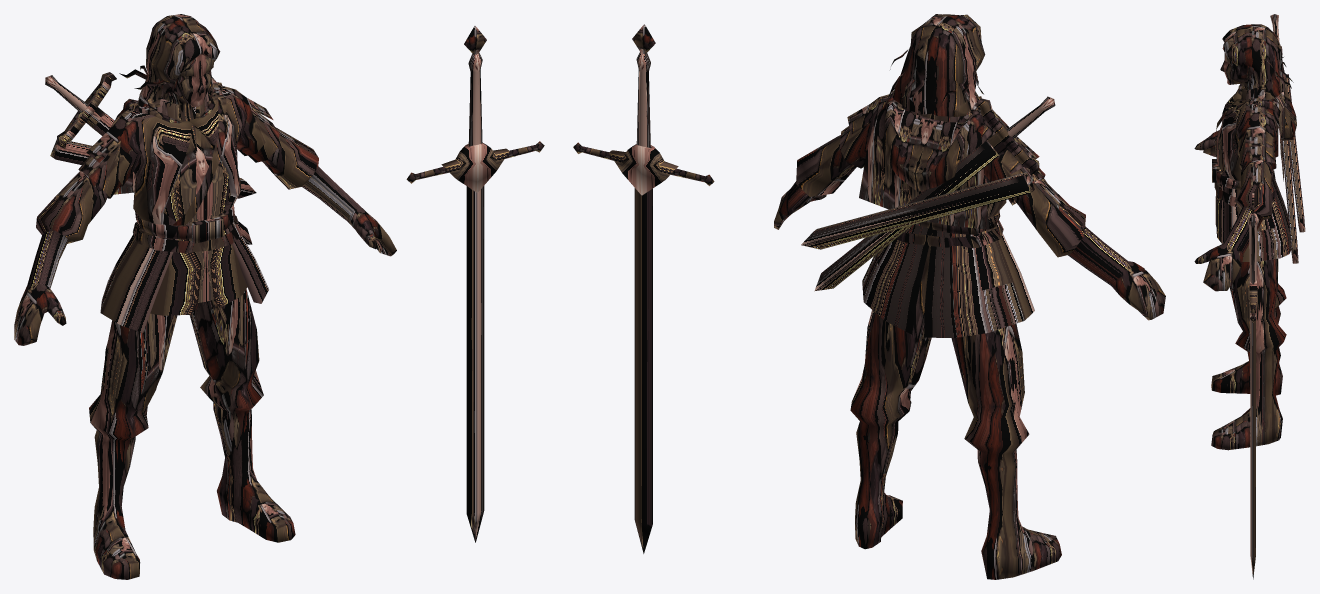
The picture shows the model from 3 angles, left to right: view 1: azimuth 30°, elevation 25°; view 2: azimuth 150°, elevation 25°; view 3: azimuth 270°, elevation 25°; orthographic projection. The views are drawn at different scales.
Parts seen in each view (by area): view 1: Object060; view 2: Object060; view 3: Object060.
Part boxes in pixels (x1,y1,x2,y2): Object060: (14, 14, 544, 579); Object060: (573, 14, 1165, 579); Object060: (1194, 14, 1305, 579).
Bounding box in the file's own units: 2.11 × 2.18 × 0.4925.
1 material, 1 textured.
